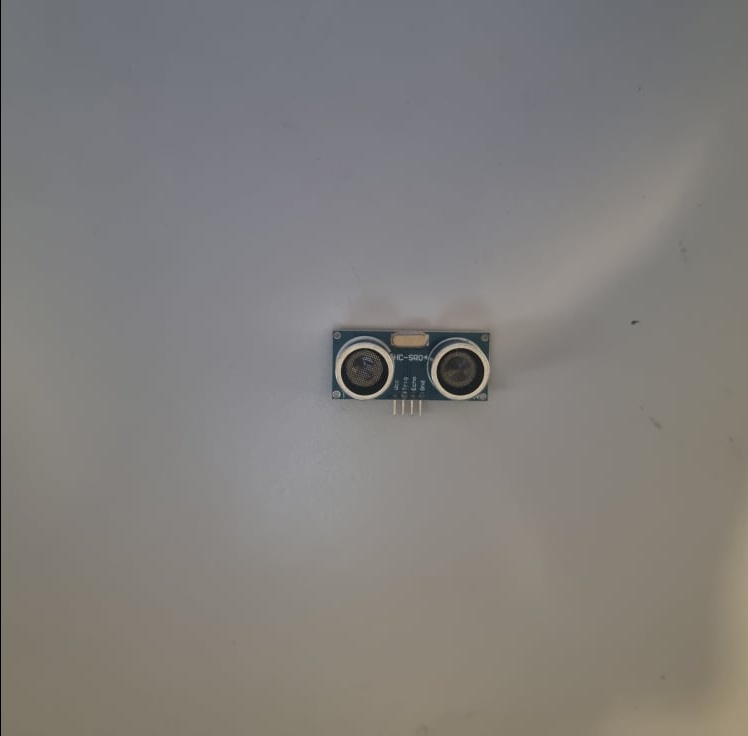SENSOR: (330, 330, 492, 402)
